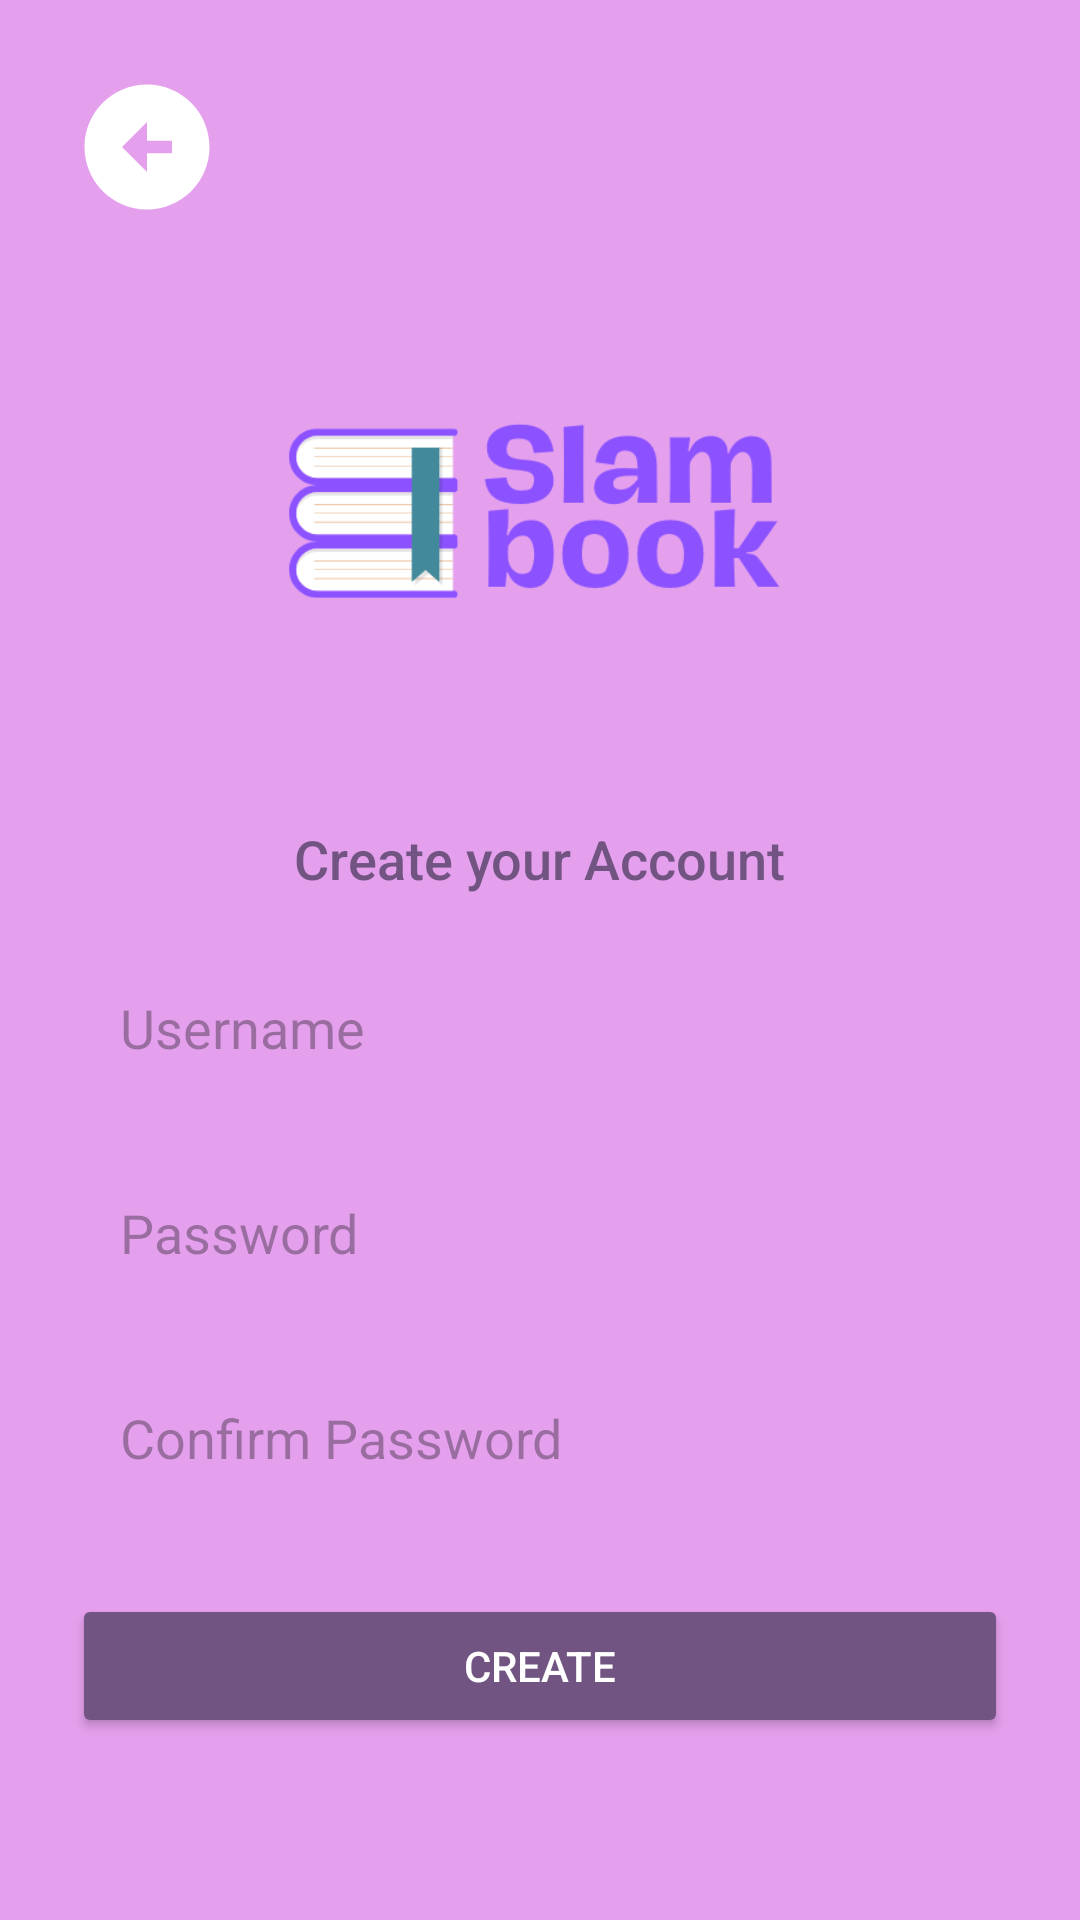

Named icons in this screenshot (1080×1920) and their bounding boxes, {"left": x1, "top": y1, "right": x2, "bottom": y2}:
Back Button: {"left": 84, "top": 84, "right": 210, "bottom": 210}
